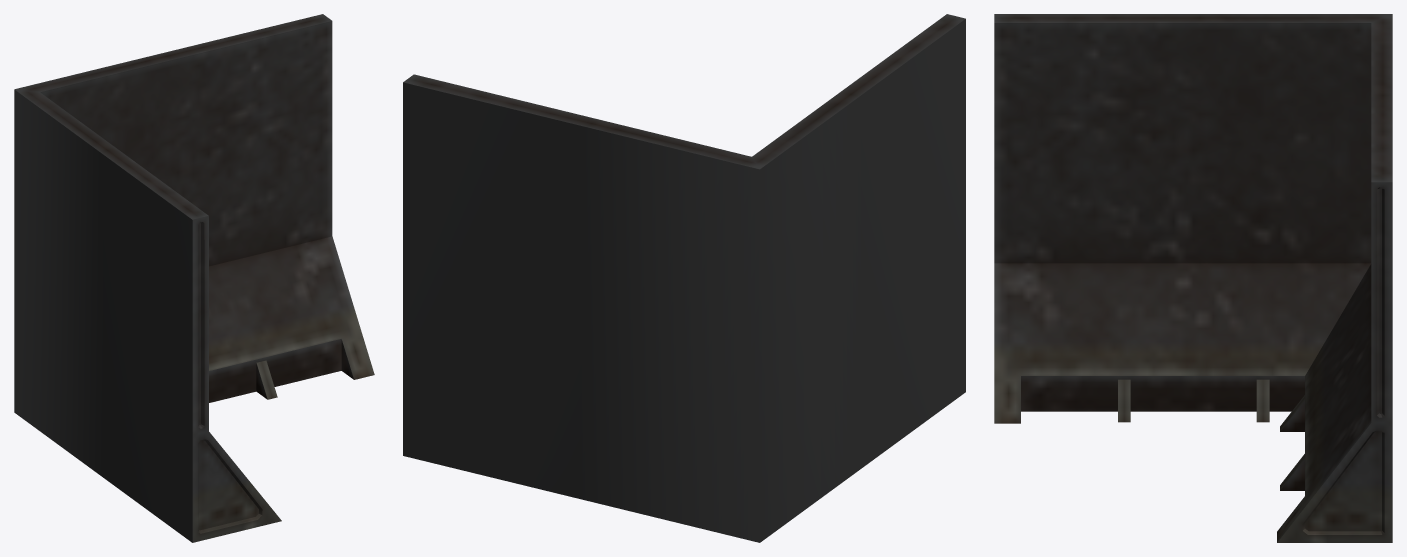
Rendered from Wall_25_Corner_in_2.FBX.
The picture shows the model from 3 angles, left to right: view 1: azimuth 30°, elevation 25°; view 2: azimuth 150°, elevation 25°; view 3: azimuth 270°, elevation 25°; orthographic projection. The views are drawn at different scales.
Parts seen in each view (by area): view 1: Wall_25; view 2: Wall_25; view 3: Wall_25.
Part boxes in pixels (bbox=[...]): Wall_25: bbox=[14, 14, 374, 542]; Wall_25: bbox=[403, 14, 965, 542]; Wall_25: bbox=[994, 14, 1392, 542].
Size of the model in its own units: 300 by 300 by 300.
